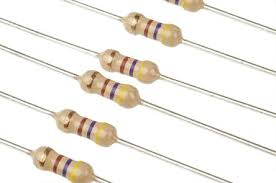resistor: (68, 69, 154, 114), (46, 107, 131, 151), (16, 146, 109, 183), (113, 10, 196, 50)
